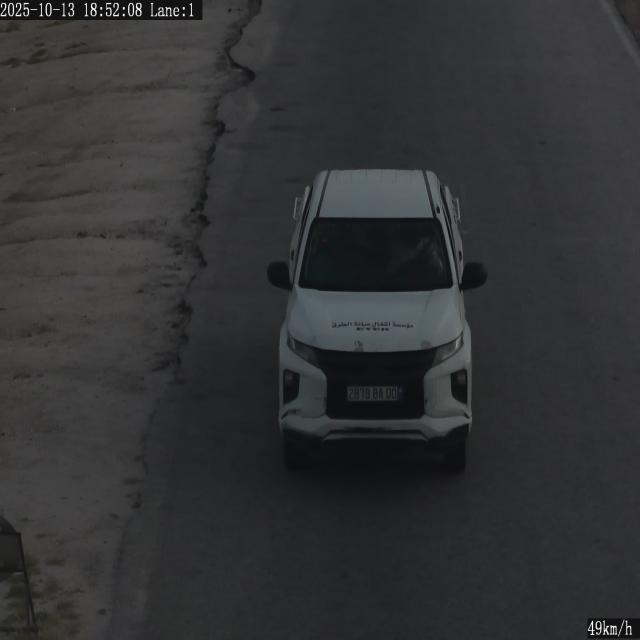BUS: (347, 386, 403, 402)
